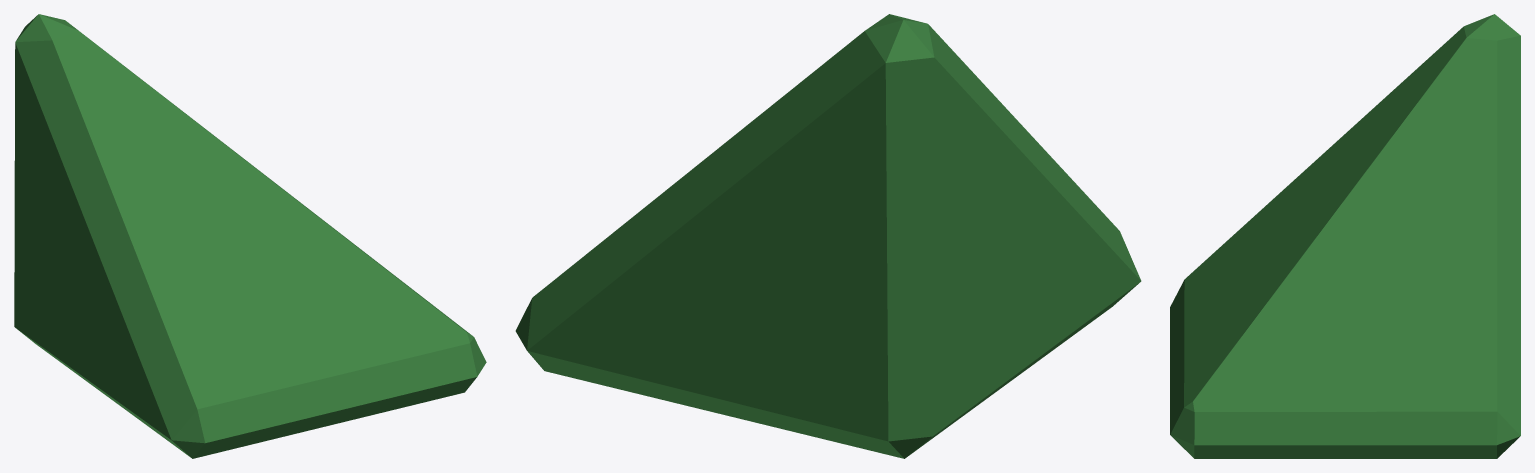
File: m_kub_dung_diagonal_cornerOut.fbx
3 views of the same model, side by side, from view 1: azimuth 30°, elevation 25°; view 2: azimuth 150°, elevation 25°; view 3: azimuth 270°, elevation 25° (orthographic). The views are drawn at different scales.
Visible parts, largest first — view 1: m_kub_dung_diagonal_cornerOut; view 2: m_kub_dung_diagonal_cornerOut; view 3: m_kub_dung_diagonal_cornerOut.
Boxes of the visible parts, bbox=[...] form: m_kub_dung_diagonal_cornerOut: bbox=[14, 14, 486, 458]; m_kub_dung_diagonal_cornerOut: bbox=[515, 14, 1141, 458]; m_kub_dung_diagonal_cornerOut: bbox=[1170, 14, 1520, 458].
Size of the model in its own units: 2.15 by 2.15 by 2.15.
